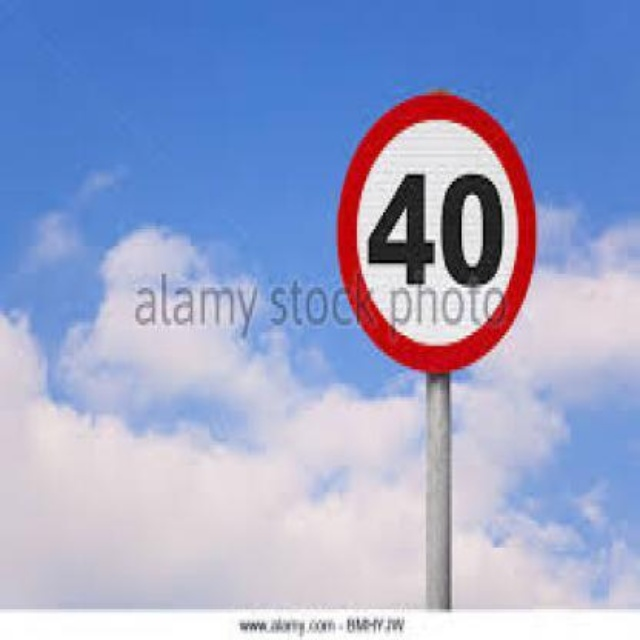Tốc độ tối đa cho phép 10km/h: (344, 94, 527, 366)
